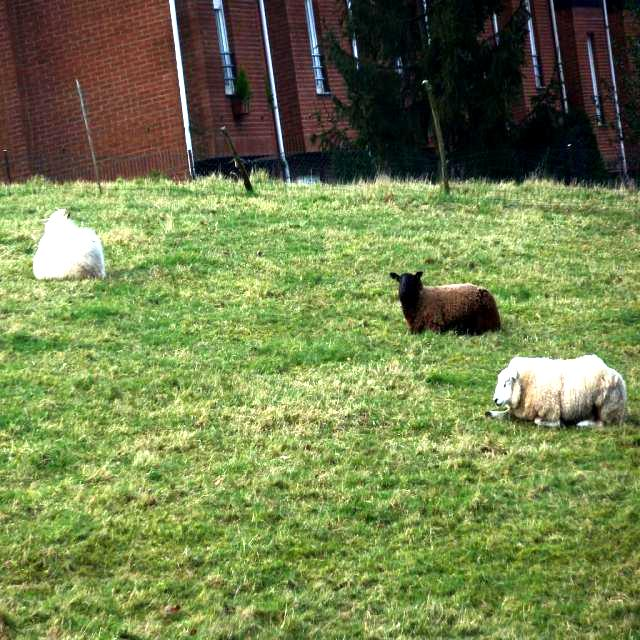sheep: (486, 356, 625, 428), (389, 271, 500, 333), (33, 209, 100, 278)
